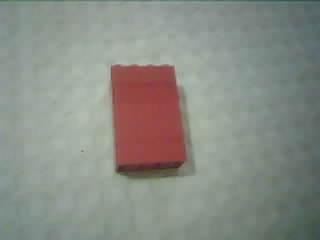lego: (108, 64, 187, 175)
